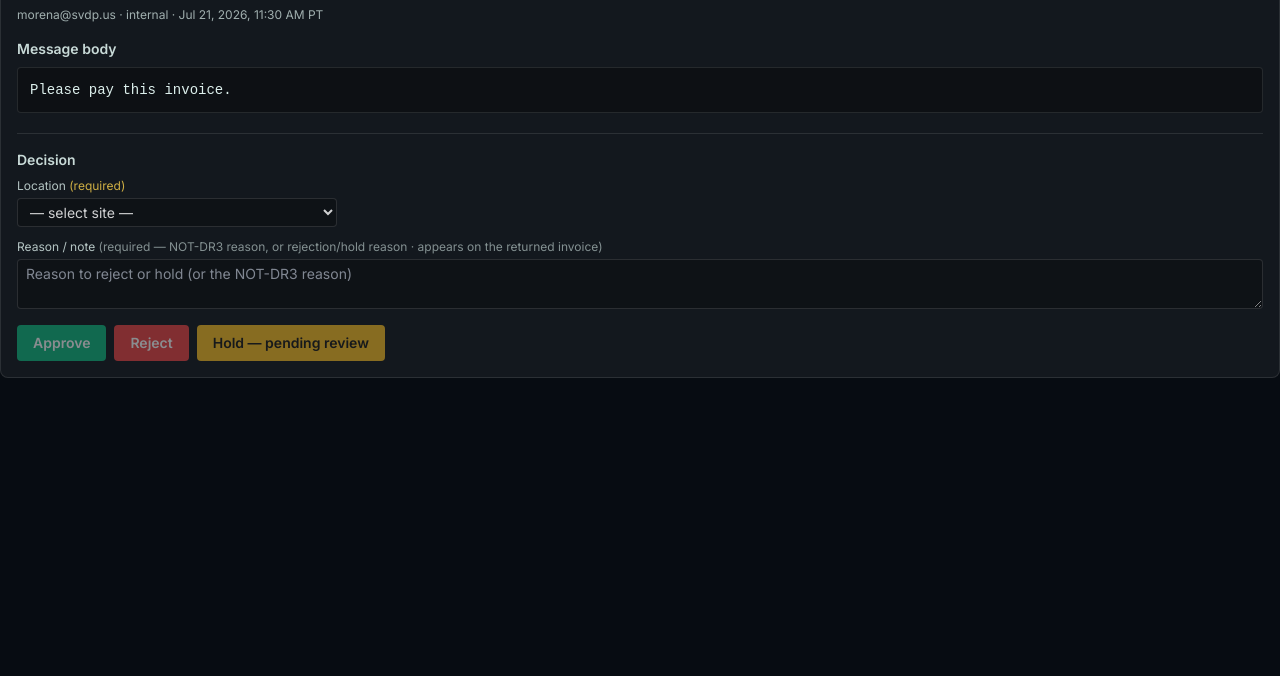
Scenario: DetailPanel — structured "Equipment not in list" hatch (ADR-0135 E) › a baler without a unit # needs a note before Approve enables
Select "Woodland" in the dropdown at {"x": 177, "y": 212}, box [17,198,337,227]
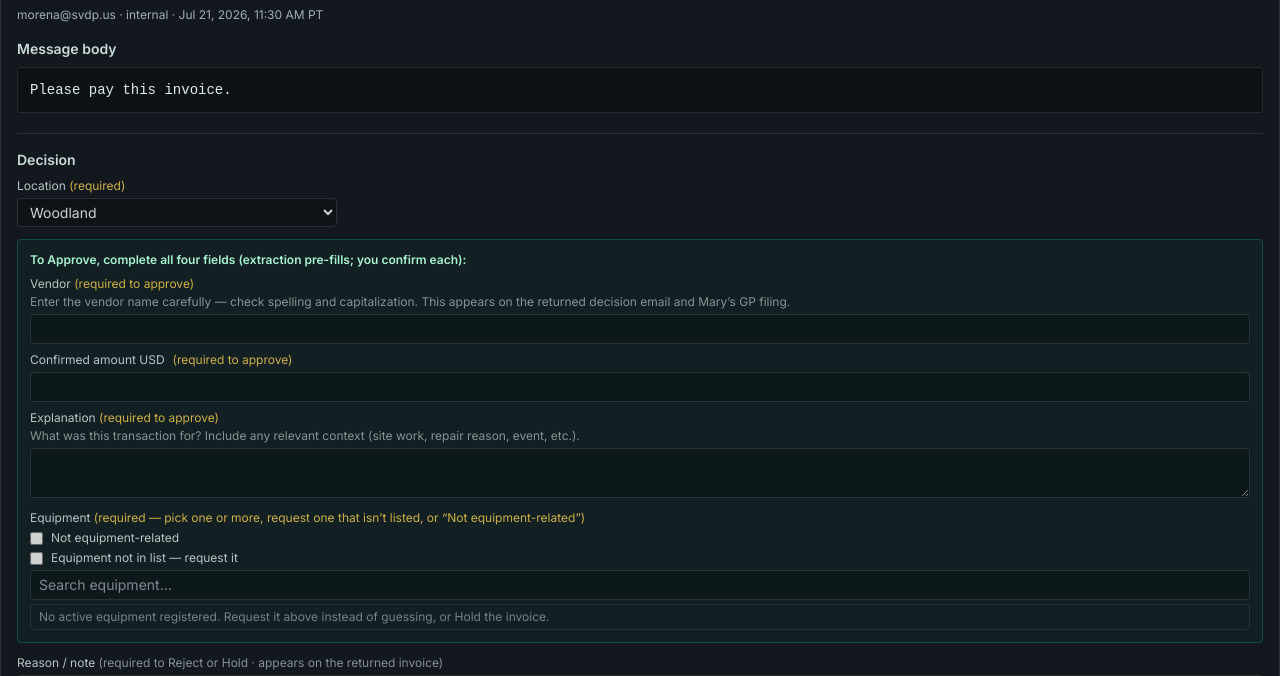
Type "Sunbelt Rentals" into the field labelled "Enter the vendor name carefully".
click(640, 329); type("Sunbelt Rentals")  # box [30,314,1250,344]
Type "125.00" into the field labelled "Confirmed amount USD (required to approve)".
click(640, 387); type("125.00")  # box [30,372,1250,402]
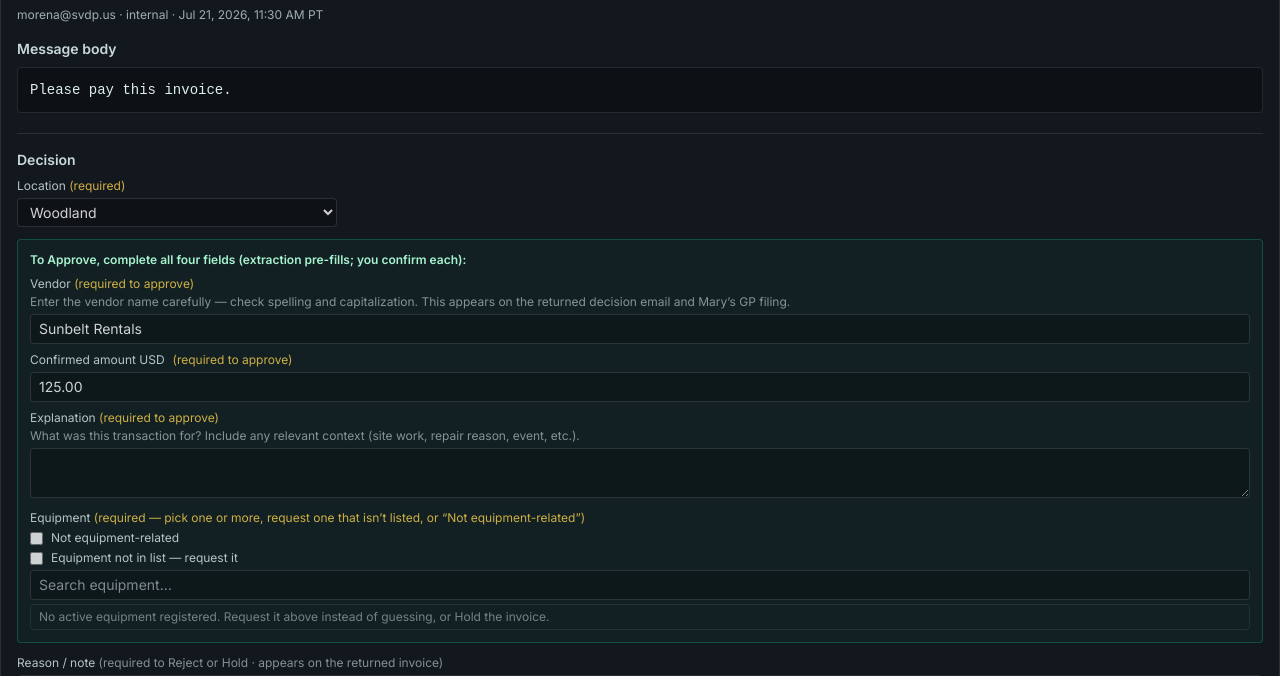
Type "trailer repair" into the text box labelled "What was this transaction for".
click(640, 473); type("trailer repair")  # box [30,448,1250,498]
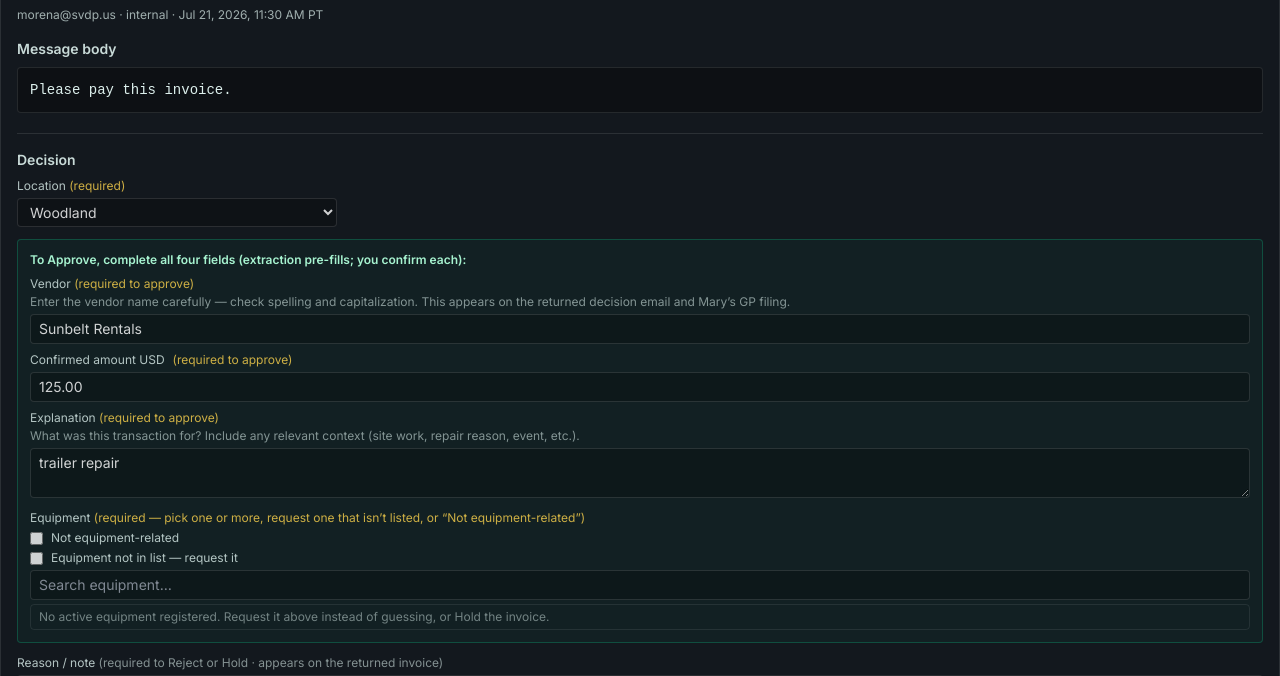
Click the checkbox with test id "ap-equipment-not-listed".
click(36, 558)  # box [30,552,43,564]
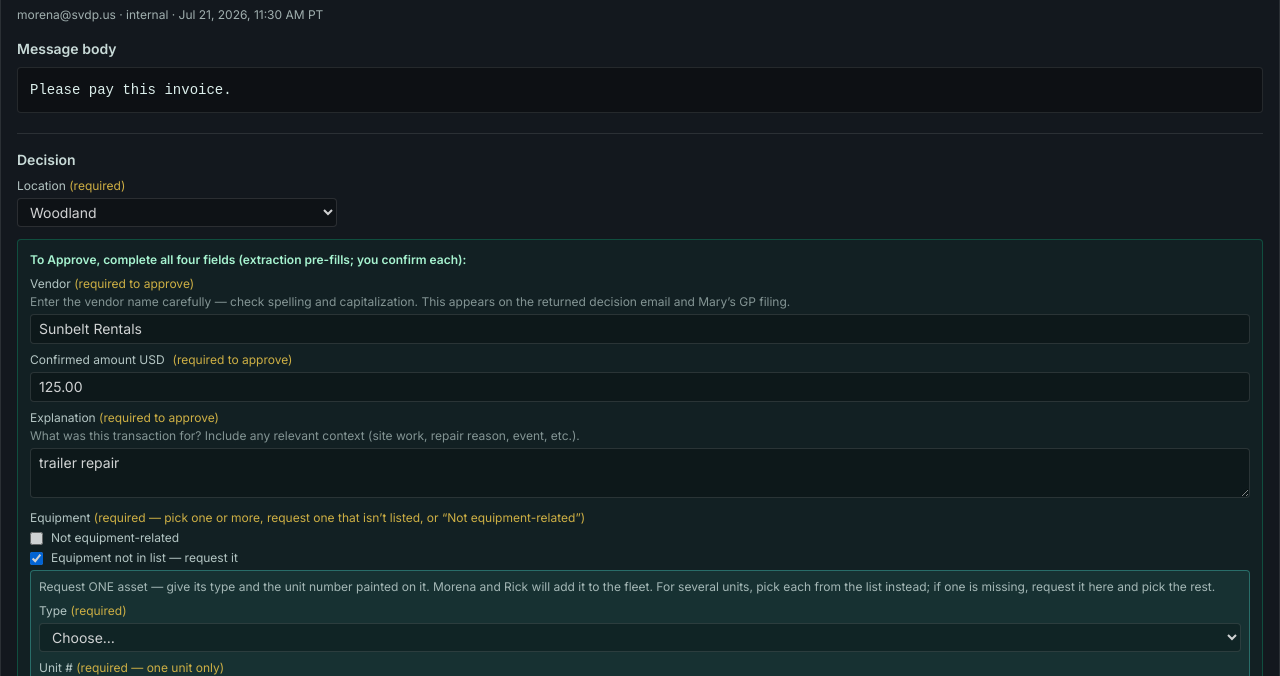
Select "Baler" in the dropdown with test id "ap-equipment-request-type" at {"x": 640, "y": 638}, box [39,623,1241,652]
(page scrolled)
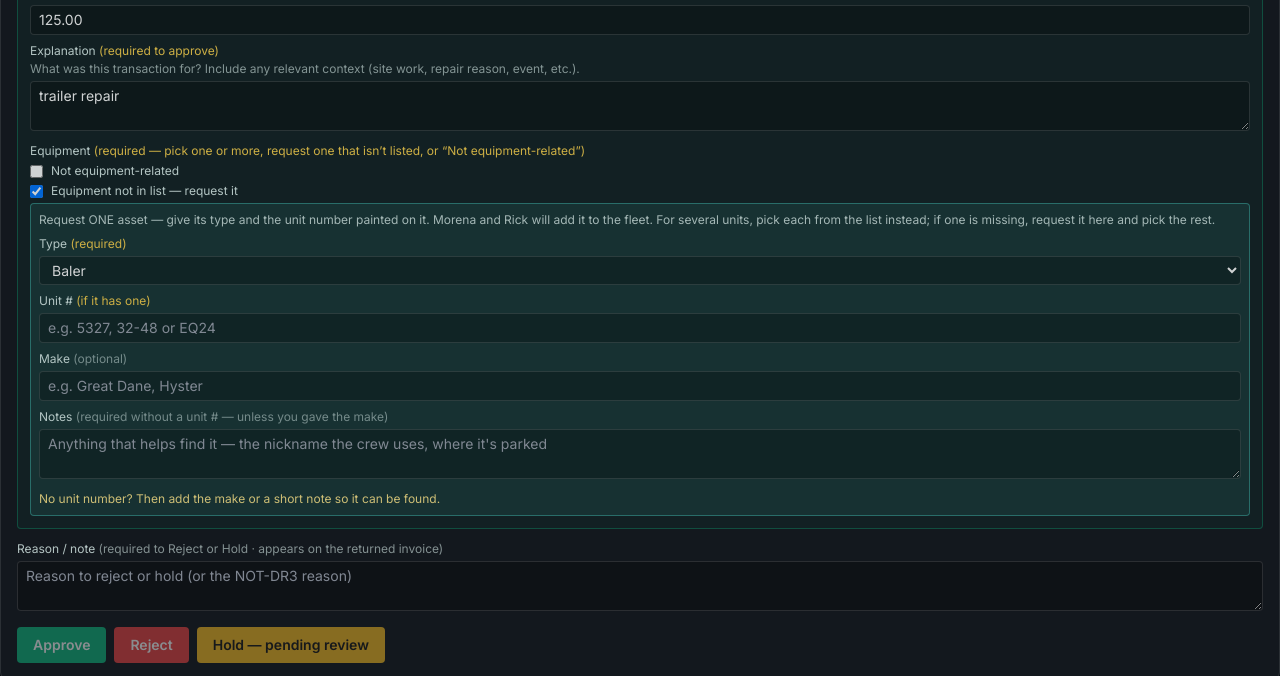
Expected: the button "Approve" is disabled, [17,627,106,663]
Replace the text in the text box with test id "ap-equipment-request-notes" with "the vertical baler by dock 2" at {"x": 640, "y": 454}, box [39,429,1241,479]
(page scrolled)
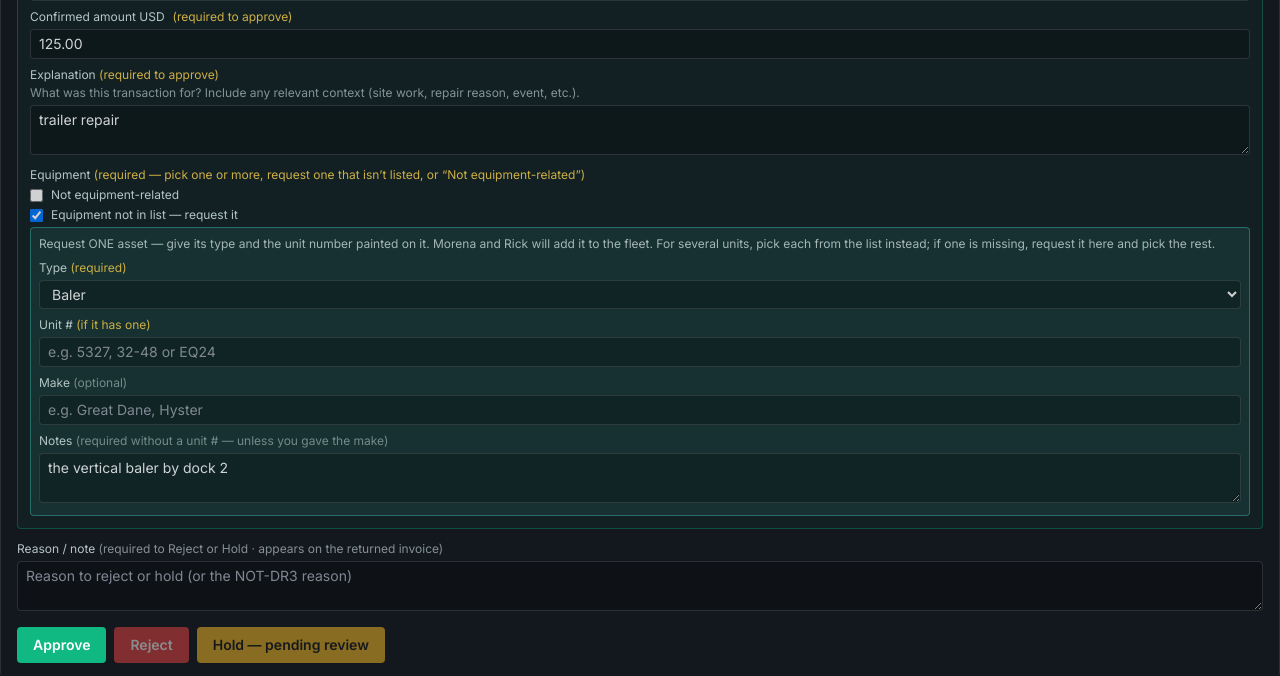
Expected: the button "Approve" is enabled, [17,627,106,663]
